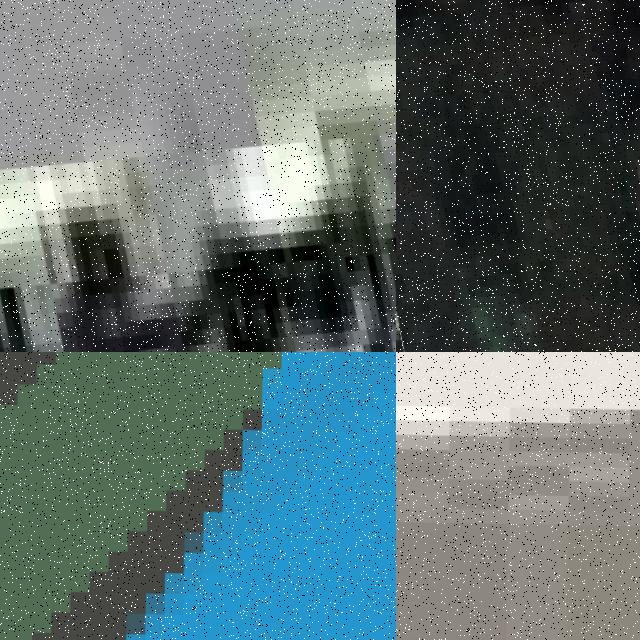0: (0, 0, 396, 352)
drone: (396, 0, 640, 352)
